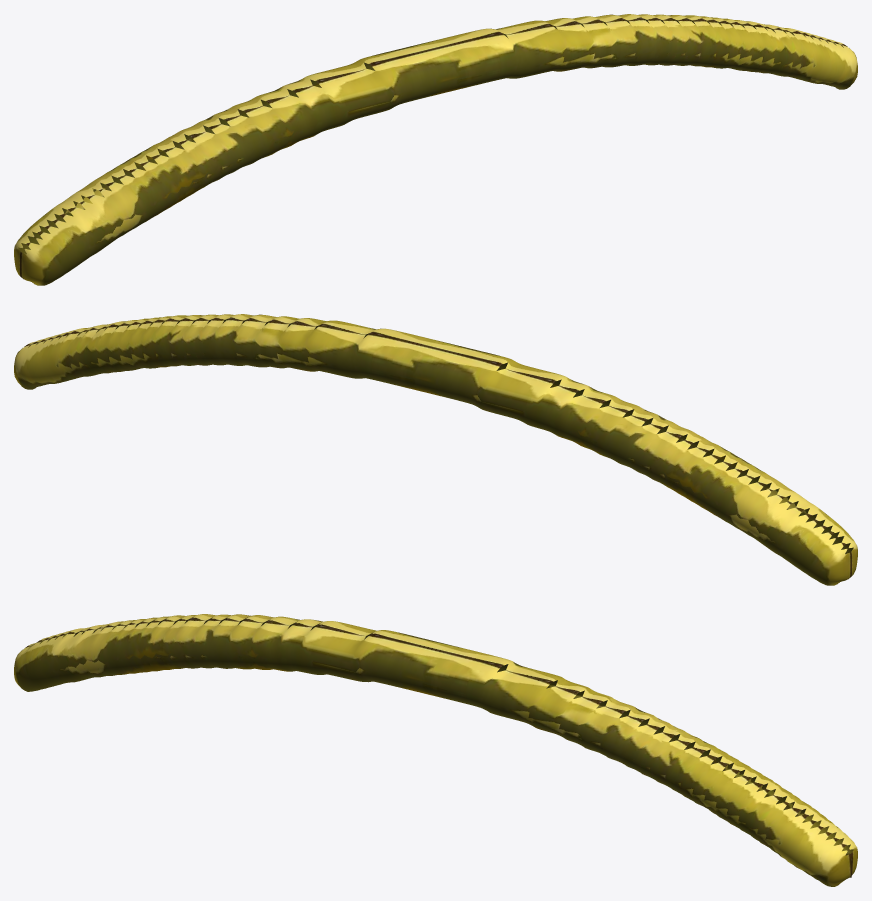
File: gold_arch.glb
3 views of the same model, one above another, from view 1: azimuth 30°, elevation 25°; view 2: azimuth 150°, elevation 25°; view 3: azimuth 330°, elevation 25° (orthographic).
Parts seen in each view (by area): view 1: gold_arch; view 2: gold_arch; view 3: gold_arch.
Boxes of the visible parts, x1,y1,x2,y2 form: gold_arch: (14,14,857,285); gold_arch: (14,314,857,585); gold_arch: (14,614,857,886).
Bounding box in the file's own units: 0.989 × 0.1565 × 0.0769.
1 material, 1 textured.
